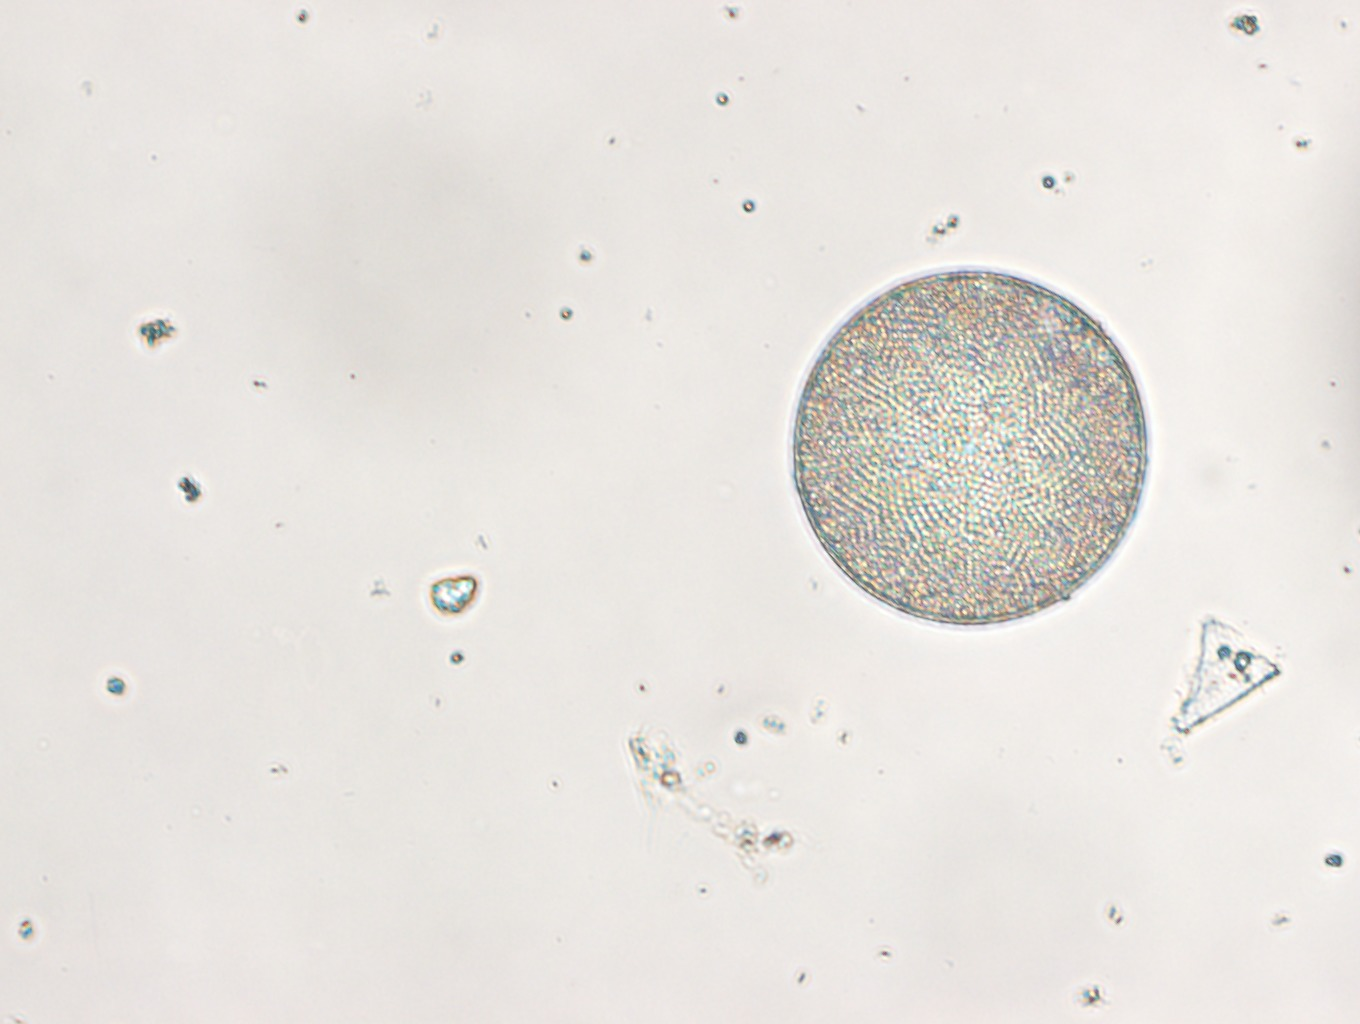coscinodiscus: (790, 265, 1148, 629)
